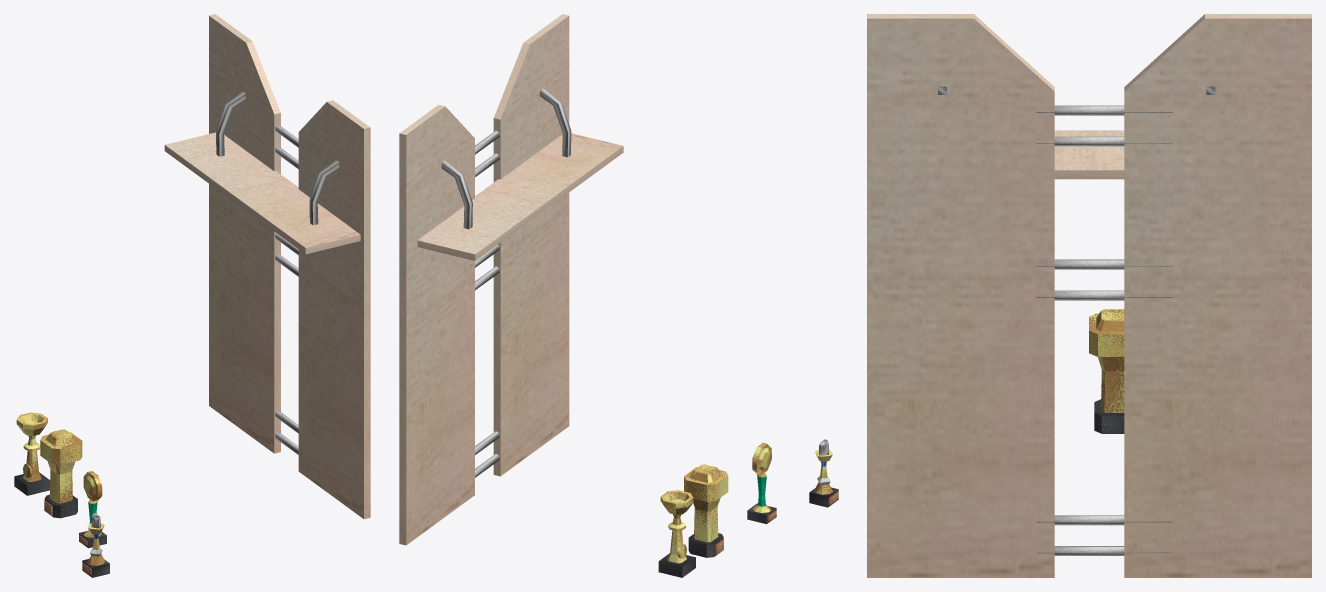
File: tv shelf.FBX
3 views of the same model, side by side, from view 1: azimuth 30°, elevation 25°; view 2: azimuth 150°, elevation 25°; view 3: azimuth 270°, elevation 25° (orthographic). The views are drawn at different scales.
Parts seen in each view (by area): view 1: Box002, Box001, Box003, Box004, Box008, Box006, Box005, Object006, Object002, Cylinder007; view 2: Box001, Box002, Box003, Box004, Box008, Box005, Box006, Object006; view 3: Box002, Box001, Box004, Box003, Cylinder006, Cylinder001, Cylinder003, Cylinder004, Cylinder002, Cylinder005, Object002.
Part boxes in pixels (x1=…): Box002: x1=298, y1=100, x2=370, y2=519; Box001: x1=209, y1=14, x2=280, y2=453; Box003: x1=164, y1=132, x2=360, y2=254; Box004: x1=40, y1=429, x2=82, y2=503; Box008: x1=16, y1=412, x2=47, y2=481; Box006: x1=309, y1=160, x2=339, y2=225; Box005: x1=216, y1=91, x2=245, y2=156; Object006: x1=14, y1=472, x2=49, y2=495; Object002: x1=44, y1=495, x2=77, y2=518; Cylinder007: x1=83, y1=471, x2=102, y2=501; Box001: x1=399, y1=105, x2=474, y2=545; Box002: x1=493, y1=14, x2=569, y2=476; Box003: x1=417, y1=133, x2=623, y2=260; Box004: x1=684, y1=464, x2=728, y2=542; Box008: x1=660, y1=490, x2=693, y2=563; Box005: x1=441, y1=160, x2=472, y2=229; Box006: x1=540, y1=88, x2=571, y2=157; Object006: x1=658, y1=553, x2=695, y2=577; Box002: x1=867, y1=14, x2=1054, y2=577; Box001: x1=1124, y1=14, x2=1311, y2=577; Box004: x1=1089, y1=309, x2=1124, y2=412; Box003: x1=1054, y1=130, x2=1124, y2=179; Cylinder006: x1=1036, y1=515, x2=1172, y2=525; Cylinder001: x1=1036, y1=105, x2=1172, y2=115; Cylinder003: x1=1036, y1=290, x2=1172, y2=300; Cylinder004: x1=1036, y1=259, x2=1172, y2=269; Cylinder002: x1=1036, y1=136, x2=1172, y2=146; Cylinder005: x1=1037, y1=546, x2=1172, y2=555; Object002: x1=1094, y1=399, x2=1124, y2=433.
Bounding box in the file's own units: 61.24 × 83.67 × 59.95.
Materials: 7 (7 with a texture image).
